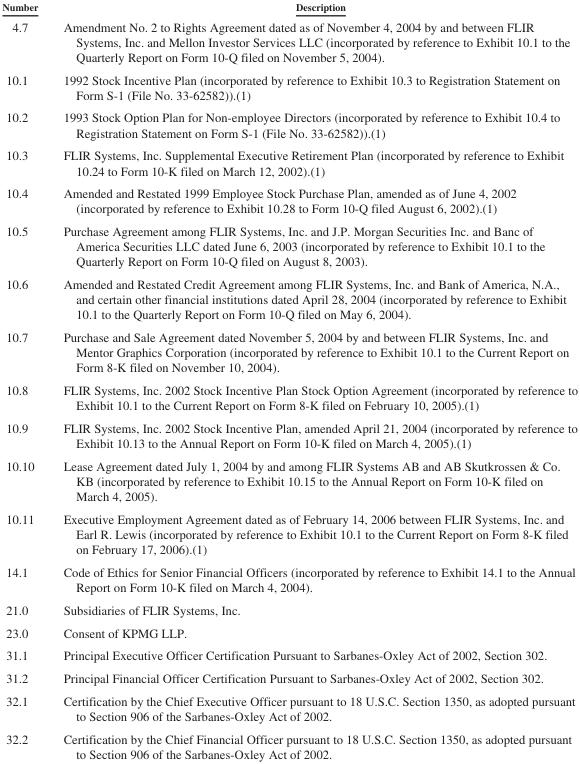table: (1, 0, 577, 760)
table column: (50, 0, 577, 760), (1, 0, 50, 760)
table column header: (1, 0, 577, 15)
table row: (1, 219, 577, 272), (1, 272, 577, 325), (1, 325, 577, 378), (1, 454, 577, 507), (1, 507, 577, 560), (1, 15, 577, 67), (1, 67, 577, 105), (1, 105, 577, 143), (1, 143, 577, 181), (1, 181, 577, 219), (1, 378, 577, 416), (1, 416, 577, 454), (1, 560, 577, 598), (1, 689, 577, 727), (1, 727, 577, 760), (1, 620, 577, 643), (1, 643, 577, 666), (1, 666, 577, 689), (1, 598, 577, 620), (1, 0, 577, 15)
